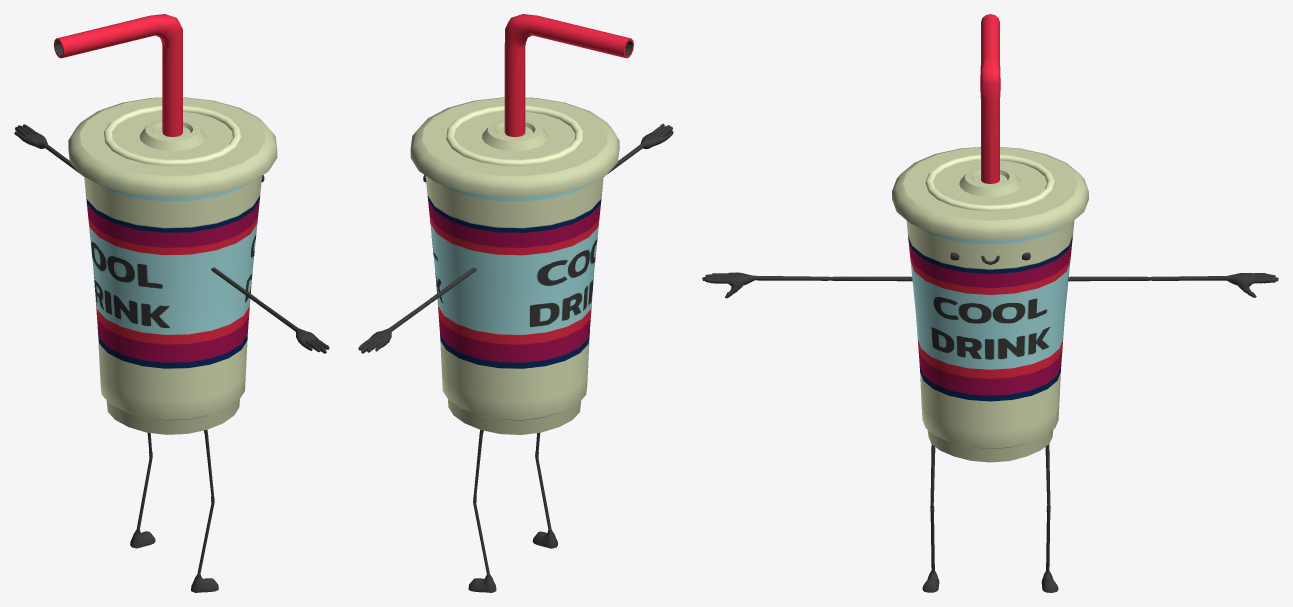
Rendered from Drink Character.glb.
3 views of the same model, side by side, from view 1: azimuth 30°, elevation 25°; view 2: azimuth 150°, elevation 25°; view 3: azimuth 270°, elevation 25° (orthographic). The views are drawn at different scales.
Visible parts, largest first — view 1: _100Avatars_159_CoolDrink; view 2: _100Avatars_159_CoolDrink; view 3: _100Avatars_159_CoolDrink.
Part boxes in pixels (<box>): _100Avatars_159_CoolDrink: <box>14,14,329,592</box>; _100Avatars_159_CoolDrink: <box>358,14,673,592</box>; _100Avatars_159_CoolDrink: <box>702,14,1278,592</box>.
Bounding box in the file's own units: 1.7 × 4.39 × 4.41.
1 material, 1 textured.
